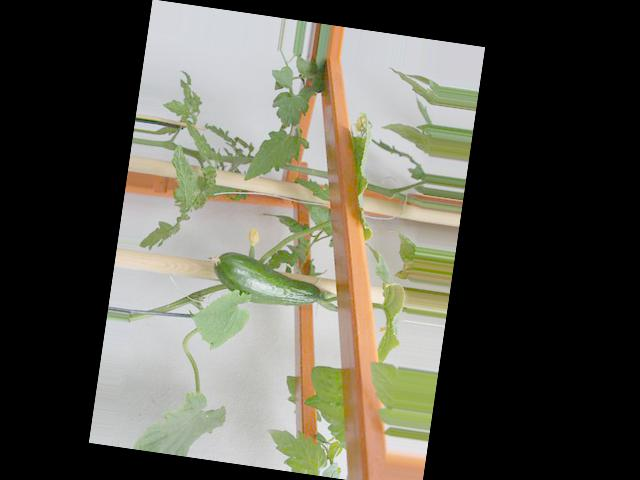cucumber: (202, 248, 324, 311)
